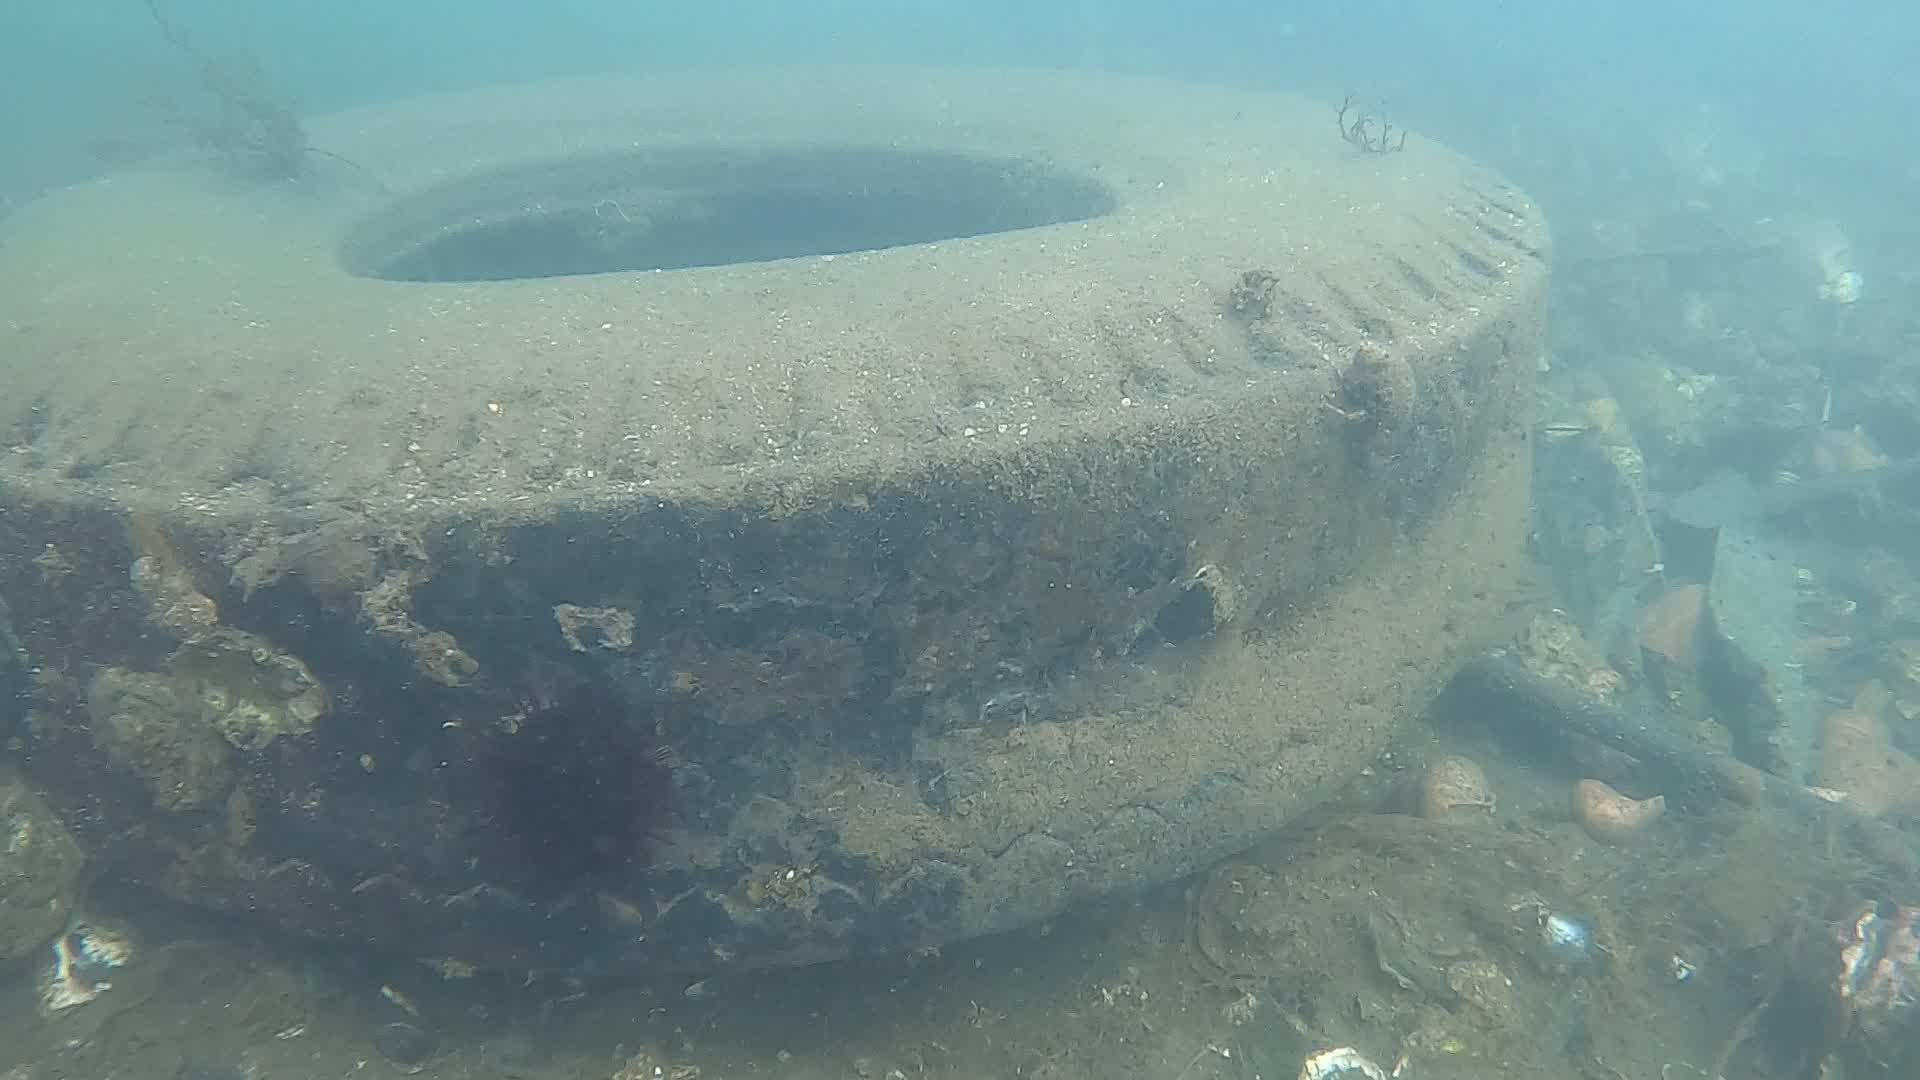tire: (0, 69, 1552, 975)
